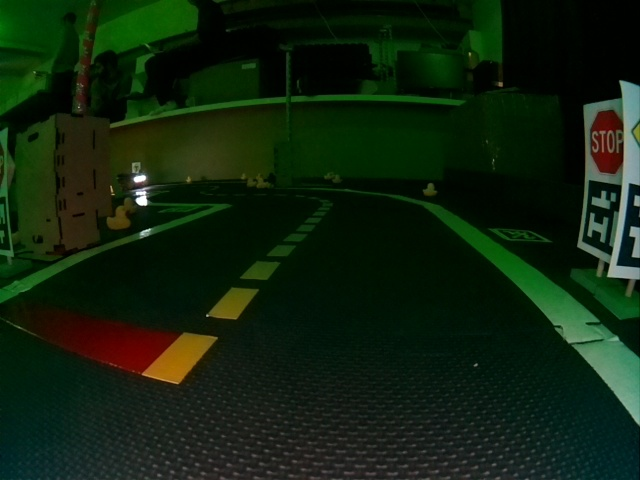Duckie: (107, 207, 130, 230), (124, 198, 136, 213), (423, 183, 436, 195), (257, 179, 266, 188), (248, 178, 256, 188), (332, 175, 342, 183)
QR code: (580, 179, 620, 255), (616, 184, 639, 267), (492, 229, 547, 241)
Stop sign: (589, 110, 623, 174)
